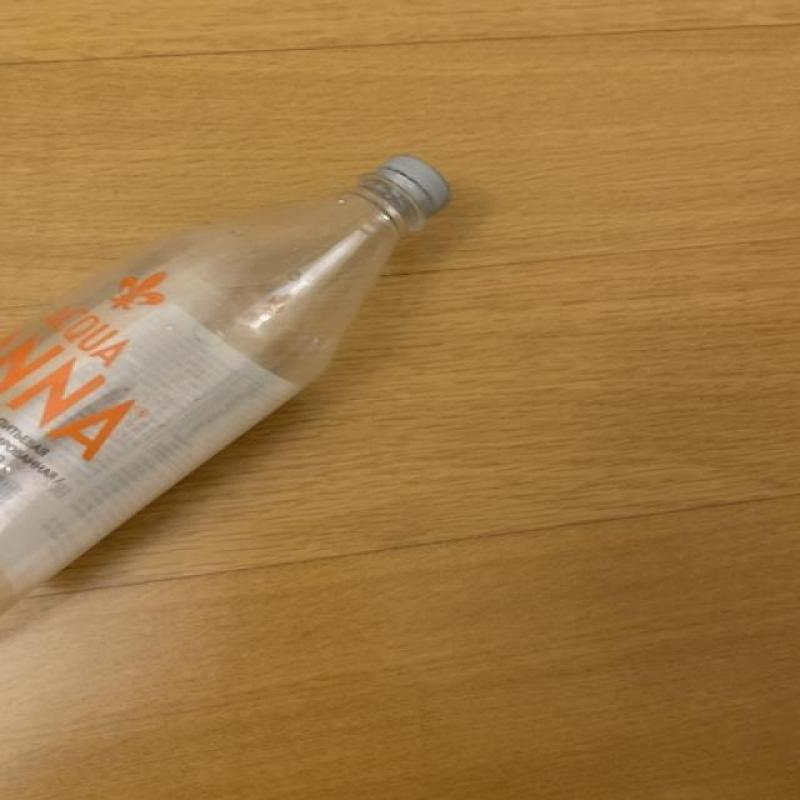botella: (2, 155, 453, 617)
